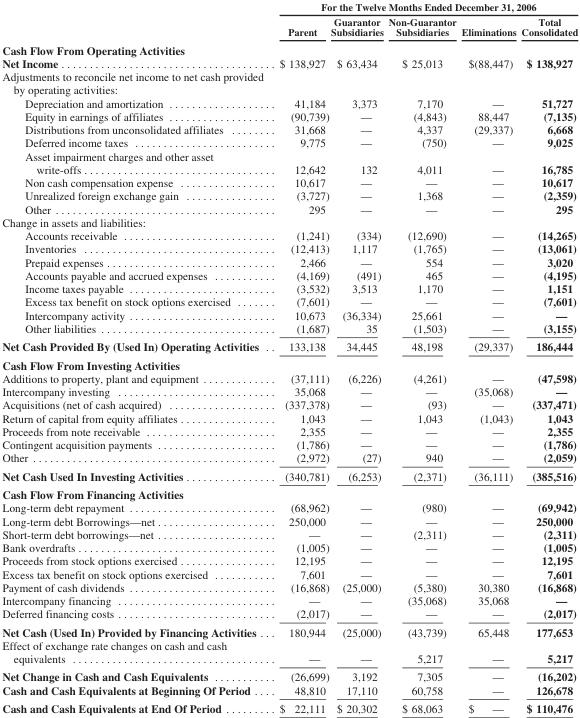table: (1, 0, 577, 714)
table column: (1, 0, 268, 714), (385, 0, 458, 714), (268, 0, 329, 714), (458, 0, 518, 714), (518, 0, 577, 714), (329, 0, 385, 714)
table column header: (1, 0, 577, 40)
table projected row header: (1, 69, 577, 95), (1, 40, 577, 56), (1, 355, 577, 371), (1, 484, 577, 500), (1, 215, 577, 228)
table row: (1, 638, 577, 667), (1, 14, 577, 40), (1, 69, 577, 95), (1, 149, 577, 175), (1, 337, 577, 355), (1, 466, 577, 484), (1, 40, 577, 56), (1, 321, 577, 337), (1, 355, 577, 371), (1, 450, 577, 466), (1, 484, 577, 500), (1, 606, 577, 622), (1, 622, 577, 638), (1, 667, 577, 683), (1, 698, 577, 714), (1, 683, 577, 698), (1, 0, 577, 14), (1, 95, 577, 109), (1, 135, 577, 149), (1, 188, 577, 202), (1, 241, 577, 255), (1, 294, 577, 308), (1, 410, 577, 424), (1, 513, 577, 527), (1, 566, 577, 580), (1, 56, 577, 69), (1, 109, 577, 122), (1, 122, 577, 135), (1, 175, 577, 188), (1, 202, 577, 215), (1, 215, 577, 228), (1, 228, 577, 241), (1, 255, 577, 268), (1, 268, 577, 281), (1, 281, 577, 294), (1, 308, 577, 321), (1, 371, 577, 384), (1, 384, 577, 397), (1, 397, 577, 410), (1, 424, 577, 437), (1, 437, 577, 450), (1, 500, 577, 513), (1, 527, 577, 540), (1, 540, 577, 553), (1, 553, 577, 566), (1, 580, 577, 593), (1, 593, 577, 606)
table spanning cell: (268, 0, 577, 14)
